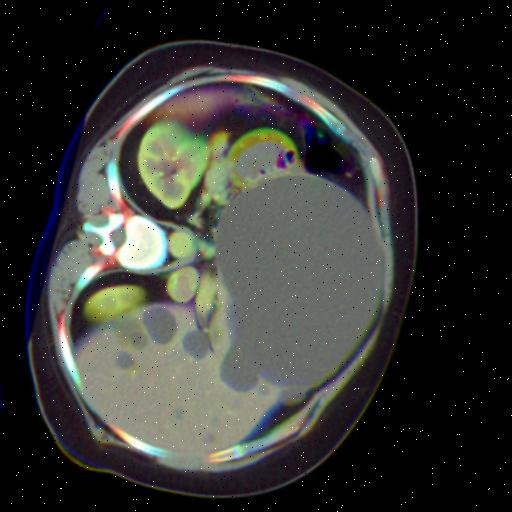Cyst: (217, 170, 387, 388), (145, 305, 180, 342), (185, 327, 214, 356), (119, 350, 138, 367)
